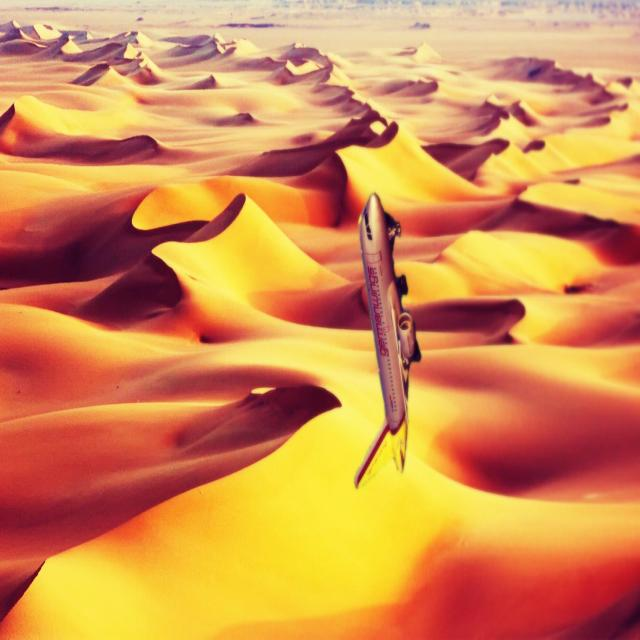airplane: (352, 191, 422, 489)
